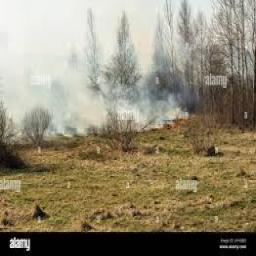Low smoke: (0, 0, 187, 137)
